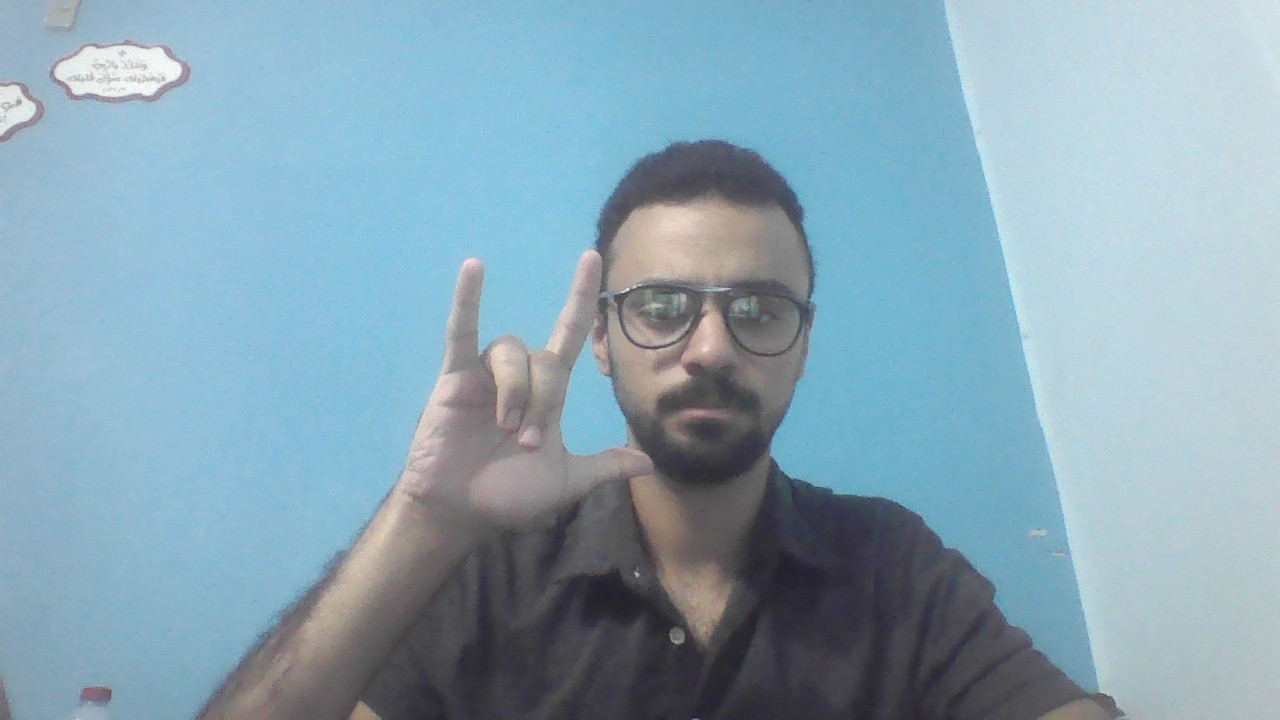love: (412, 252, 659, 534)
